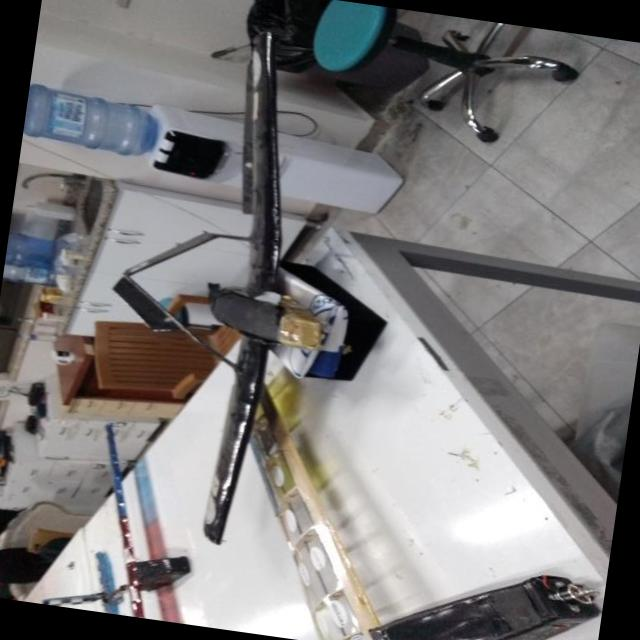UAV: (97, 29, 440, 640)
